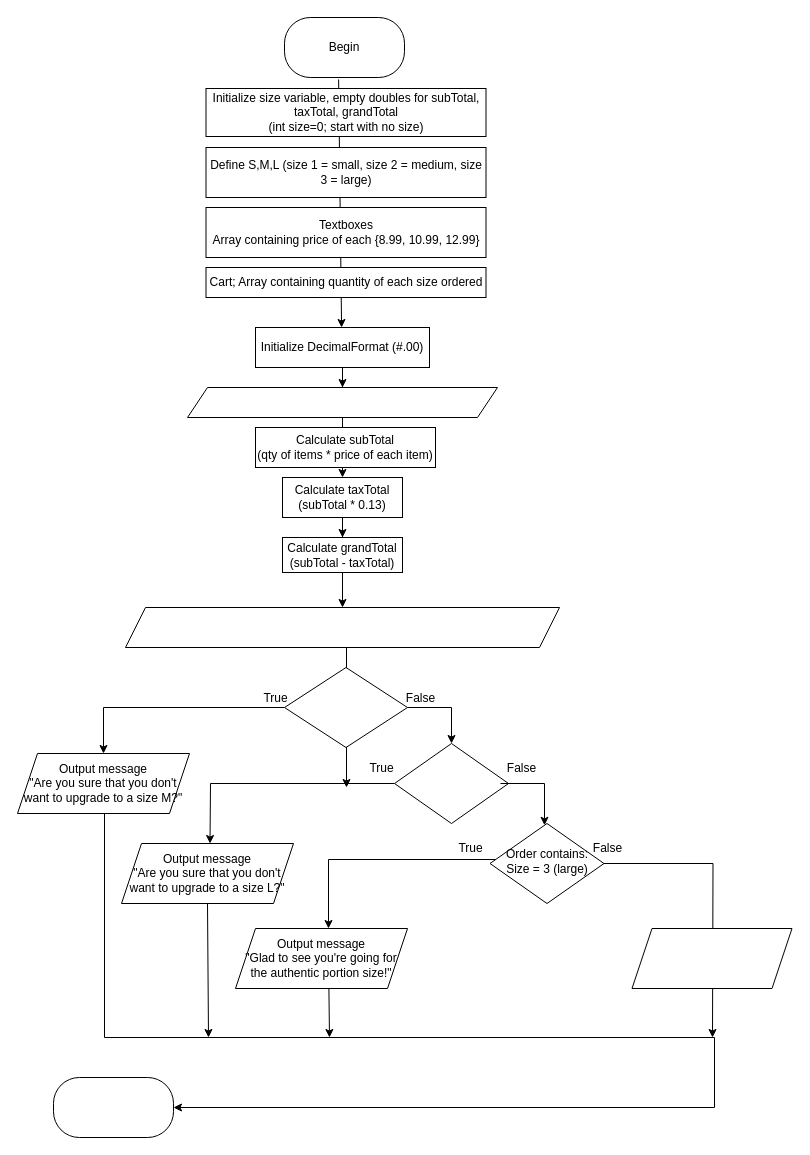
Some shapes in this 810 by 1155 pixel diagram are drawn without their labels. The centre of each missing label's shape, as x and y in pixels:
End: (113,1107)
Get input from user (qty of each size they ordered): (342,402)
Order contains: Size = 1 (small): (346,707)
Order contains: Size = 2 (medium): (451,783)
Output message "Hope to see you again at LinGUIni's!: (711,958)
Output subTotal, taxTotal, grandTotal to labels using DecimalFormat method: (342,627)
